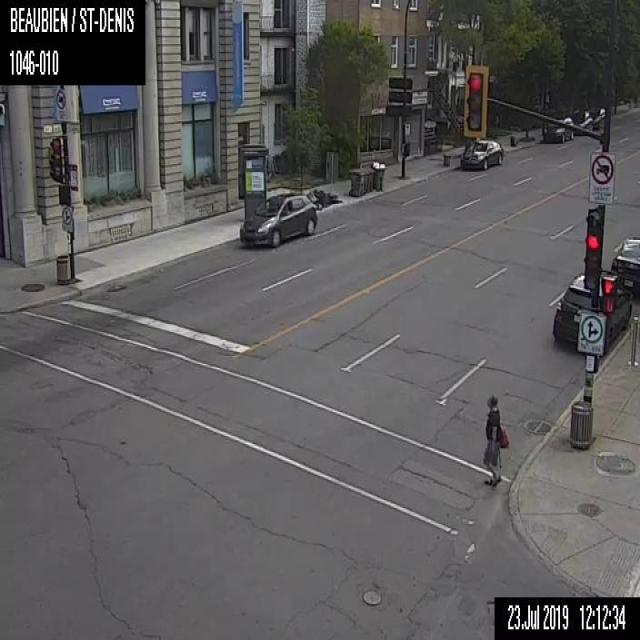pedestrian: (483, 394, 510, 486)
vehicle: (550, 267, 632, 348), (238, 189, 316, 248), (609, 235, 639, 296), (461, 138, 502, 170), (541, 115, 573, 141), (566, 108, 590, 135), (586, 105, 604, 129)
